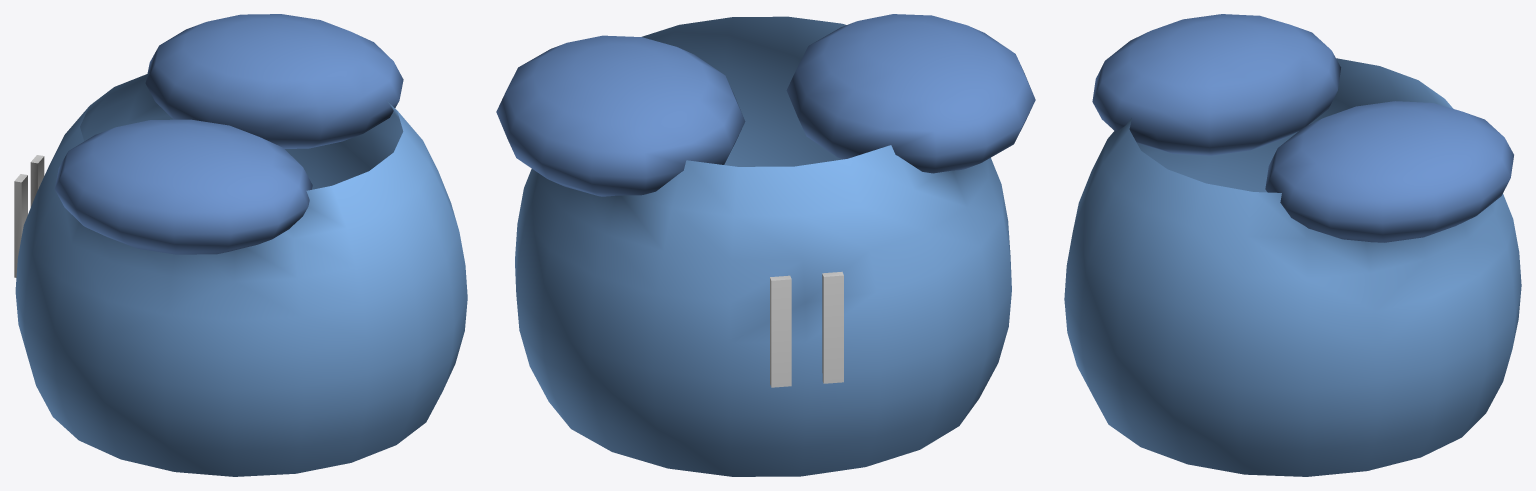
The model's file is football_chest.fbx.
3 renders of one model, left to right at view 1: azimuth 30°, elevation 25°; view 2: azimuth 150°, elevation 25°; view 3: azimuth 270°, elevation 25°, orthographic. The views are drawn at different scales.
Visible parts, largest first — view 1: football_chest; view 2: football_chest; view 3: football_chest.
Part boxes in pixels (bbox=[...]): football_chest: bbox=[14, 14, 467, 476]; football_chest: bbox=[496, 14, 1035, 476]; football_chest: bbox=[1064, 14, 1521, 476].
Size of the model in its own units: 1.72 by 1.27 by 1.7.
